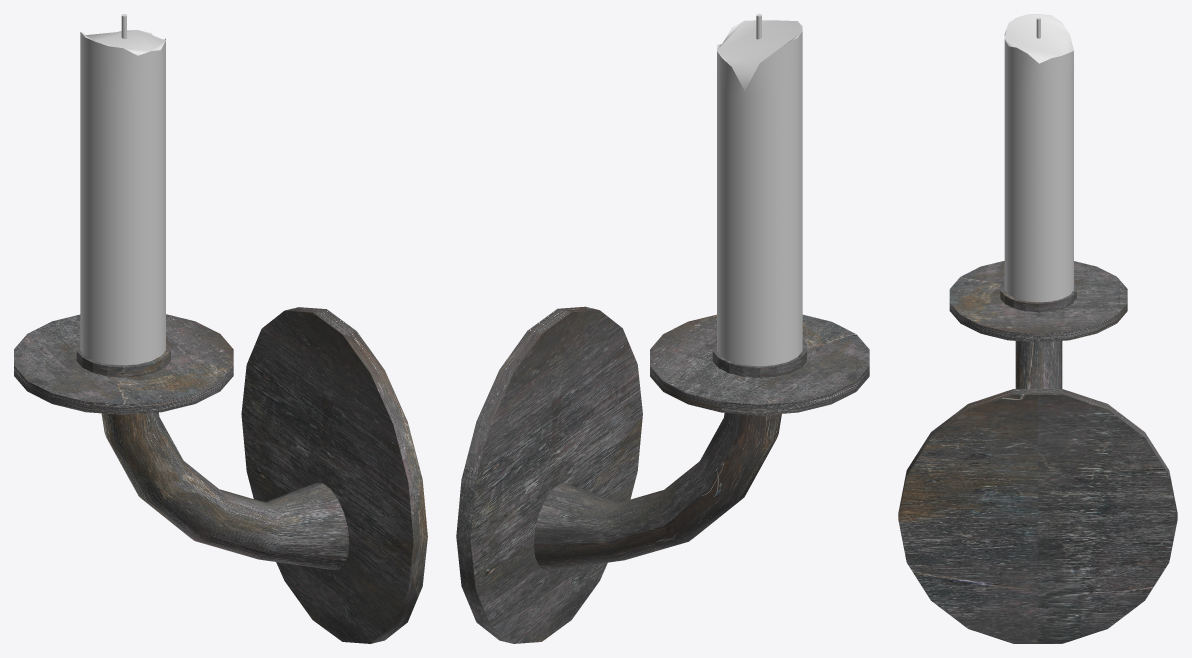
The model's file is SingleWallCandle.FBX.
3 views of the same model, side by side, from view 1: azimuth 30°, elevation 25°; view 2: azimuth 150°, elevation 25°; view 3: azimuth 270°, elevation 25° (orthographic). The views are drawn at different scales.
Parts seen in each view (by area): view 1: Cylinder004, Cylinder001, Tube001, Cylinder003; view 2: Cylinder004, Cylinder001, Tube001, Cylinder003; view 3: Cylinder004, Cylinder001, Cylinder003, Tube001.
Part boxes in pixels (x1,y1,x2,y2): Cylinder004: (241, 307, 427, 643); Cylinder001: (80, 30, 165, 365); Tube001: (101, 412, 349, 569); Cylinder003: (14, 314, 233, 414); Cylinder004: (456, 306, 642, 643); Cylinder001: (717, 20, 802, 366); Tube001: (534, 413, 781, 570); Cylinder003: (650, 314, 869, 415); Cylinder004: (898, 389, 1177, 643); Cylinder001: (1004, 14, 1073, 302); Cylinder003: (949, 261, 1127, 342); Tube001: (1015, 341, 1062, 388).
Bounding box in the file's own units: 4.89 × 9.89 × 4.64.
1 material, 1 textured.
